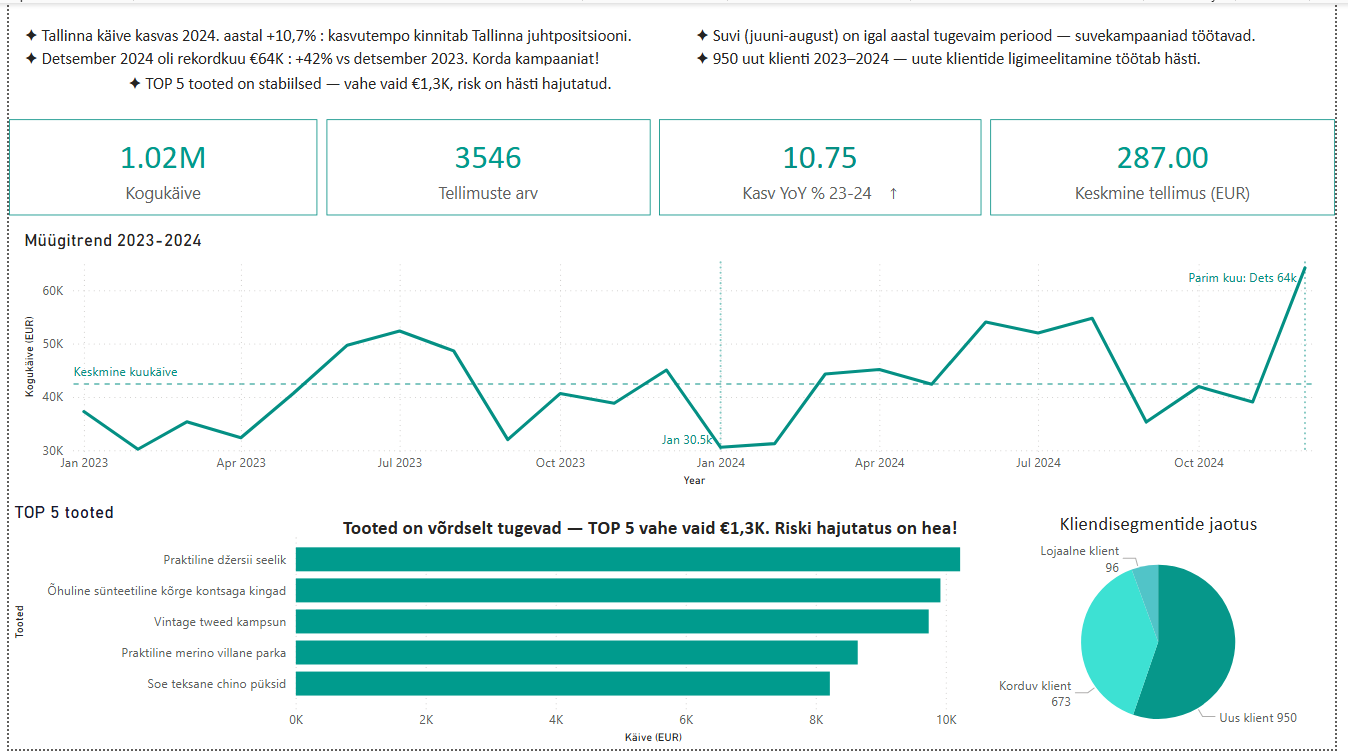

What the dashboard file says about the page in this screenshot:
{"tool":"powerbi","page":{"name":"Page 1","canvas":[1280,720],"ordinal":0},"visuals":[{"type":"card","fields":{"Values":["Sum(sales_rows.total_price)"]},"box":[0,0,306,113.9],"z":0},{"type":"card","fields":{"Values":["Count(sales_rows.customer_id)"]},"box":[306,0,333.4,113.9],"z":1000},{"type":"card","fields":{"Values":["customers_rows.GrowthYoY"]},"box":[640.8,0,321.1,113.9],"z":2000},{"type":"lineChart","title":"UrbanStyle müügitulu trend (2023-2024)","fields":{"Y":["Sum(sales_rows.total_price)"],"Category":["sales_rows.Start of Month"]},"box":[0,113.9,1280.3,328],"z":3000},{"type":"card","fields":{"Values":["Avg(sales_rows.total_price)"]},"box":[961.9,0,318.4,113.9],"z":4000},{"type":"pieChart","title":"Müük kaupluste lõikes","fields":{"Category":["sales_rows.store_location"],"Y":["Sum(sales_rows.total_price)"]},"box":[494,441.9,786.3,278.6],"z":5000},{"type":"clusteredColumnChart","title":"Kanalide müügitulu võrdlus","fields":{"Category":["sales_rows.channel"],"Y":["Sum(sales_rows.total_price)"]},"box":[0,441.9,494,278.6],"z":6000},{"type":"textbox","box":[933.1,694.3,301.9,12.3],"z":7000}]}

Visuals, with their boxes in screenshot pixels (x1, y1, x2, y2), scaled from the page's 1280x720 canvas onto the 1348x756 screenshot:
card - Sum(sales_rows.total_price): 0, 0, 322, 120
card - Count(sales_rows.customer_id): 322, 0, 673, 120
card - customers_rows.GrowthYoY: 675, 0, 1013, 120
"UrbanStyle müügitulu trend (2023-2024)" lineChart: 0, 120, 1347, 464
card - Avg(sales_rows.total_price): 1013, 0, 1347, 120
"Müük kaupluste lõikes" pieChart: 520, 464, 1347, 755
"Kanalide müügitulu võrdlus" clusteredColumnChart: 0, 464, 520, 755
textbox: 983, 729, 1301, 742
